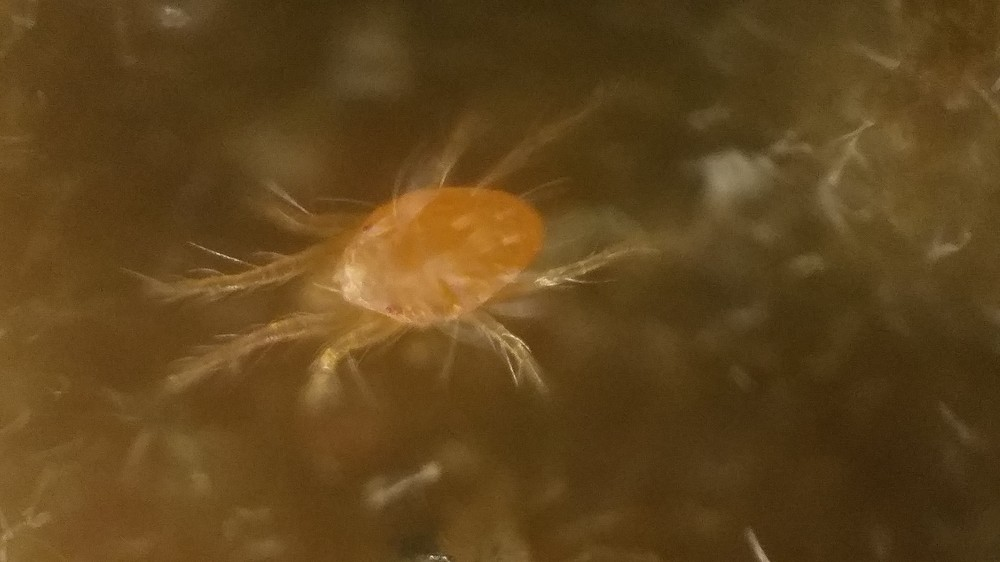Aracnido Rojo: (162, 116, 665, 388)
